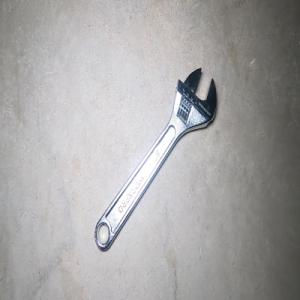Wrench: (94, 67, 216, 251)
